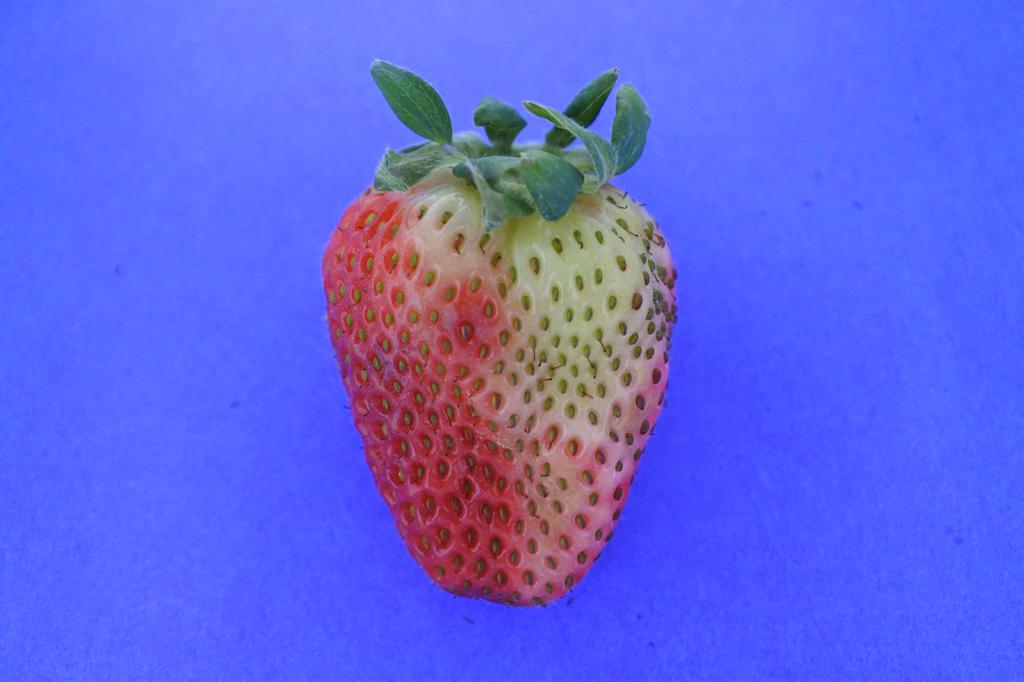red strawberry: (317, 60, 677, 609)
